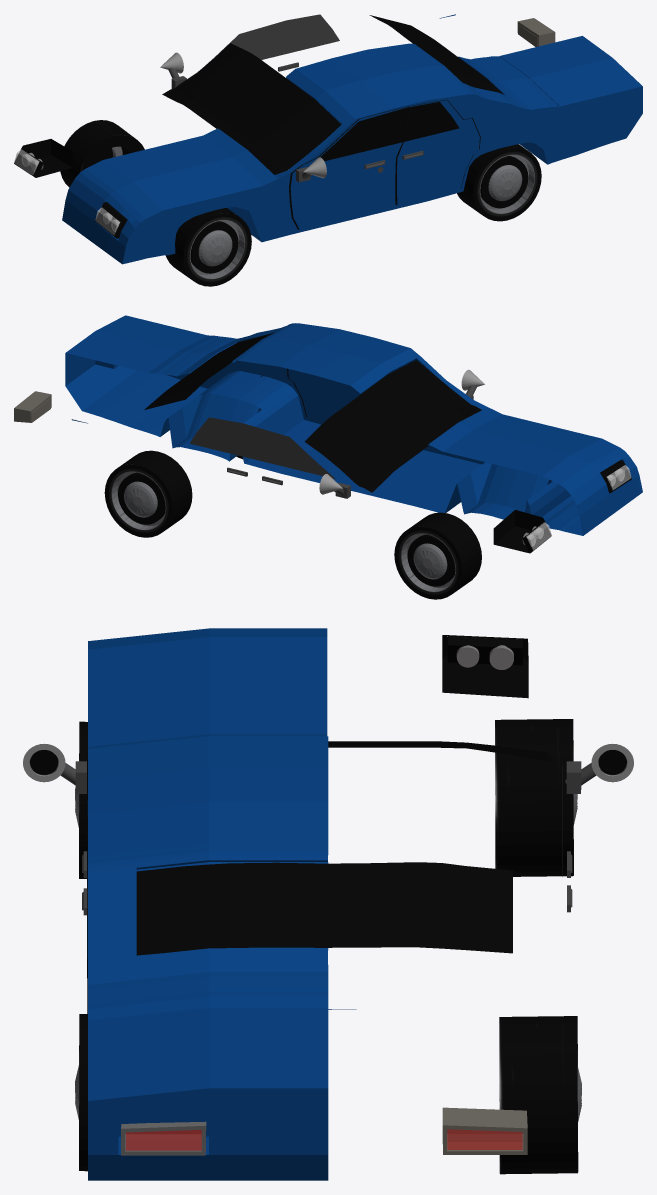
The model's file is car.glb.
The picture shows the model from 3 angles, top to bottom: view 1: azimuth 30°, elevation 25°; view 2: azimuth 150°, elevation 25°; view 3: azimuth 270°, elevation 25°; orthographic projection. The views are drawn at different scales.
Parts seen in each view (by area): view 1: Plane.001, Plane.004, Plane.006, Plane.003, Plane.008; view 2: Plane.001, Plane.004, Plane.007, Plane.008; view 3: Plane.001, Plane.004, Plane.008, Plane.007, Plane.003, Plane.006.
Part boxes in pixels (x1,y1,x2,y2): Plane.001: (62, 36, 642, 264); Plane.004: (14, 14, 555, 238); Plane.006: (165, 208, 251, 286); Plane.003: (457, 144, 541, 221); Plane.008: (60, 120, 144, 187); Plane.001: (65, 315, 642, 535); Plane.004: (14, 333, 631, 553); Plane.007: (104, 450, 192, 537); Plane.008: (394, 512, 481, 599); Plane.001: (87, 628, 356, 1180); Plane.004: (23, 635, 633, 1155); Plane.008: (495, 719, 577, 876); Plane.007: (499, 1016, 581, 1174); Plane.003: (75, 1014, 87, 1171); Plane.006: (75, 721, 87, 878).
Bounding box in the file's own units: 22.23 × 5.89 × 11.33.
21 materials, 16 textured.
